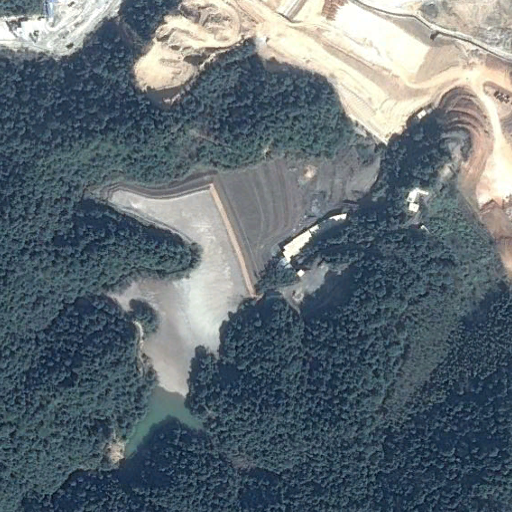tp: (93, 157, 383, 464)
